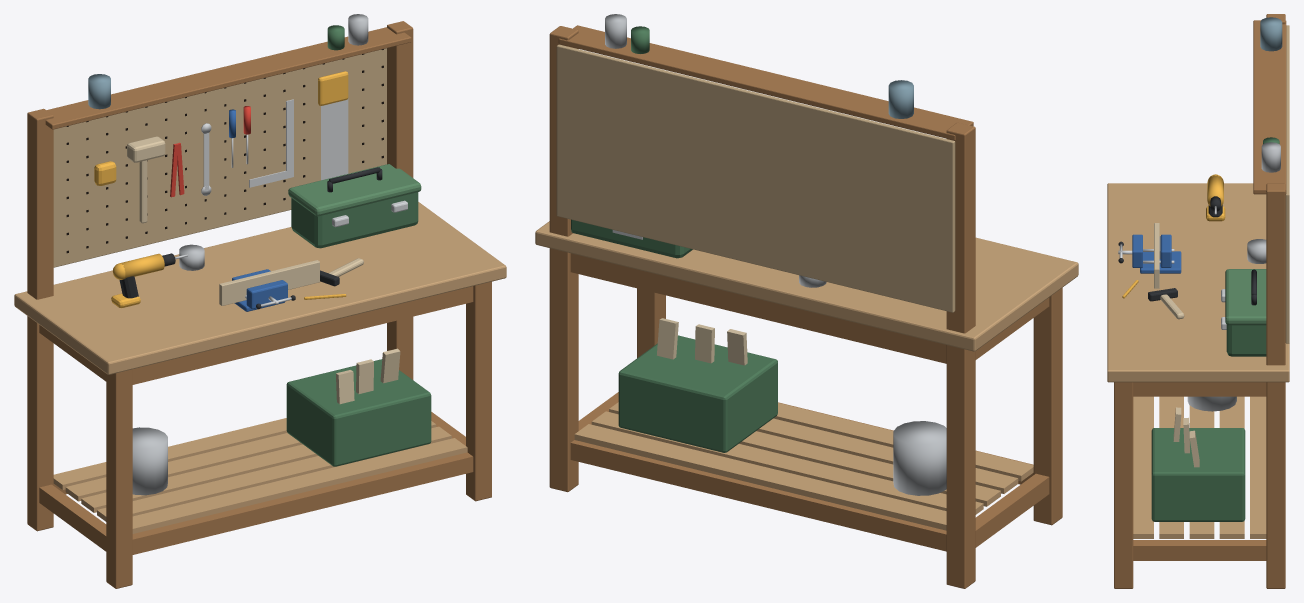
Rendered from workbench.glb.
3 views of the same model, side by side, from view 1: azimuth 30°, elevation 25°; view 2: azimuth 150°, elevation 25°; view 3: azimuth 270°, elevation 25° (orthographic). The views are drawn at different scales.
Visible parts, largest first — view 1: body, vice_jaw_front; view 2: body; view 3: body, vice_jaw_front.
Boxes of the visible parts, x1,y1,x2,y2 form: body: (14, 14, 506, 588); vice_jaw_front: (245, 280, 295, 309); body: (535, 14, 1078, 588); body: (1107, 14, 1289, 588); vice_jaw_front: (1118, 234, 1174, 267).
Size of the model in its own units: 1.62 by 1.69 by 0.665.
